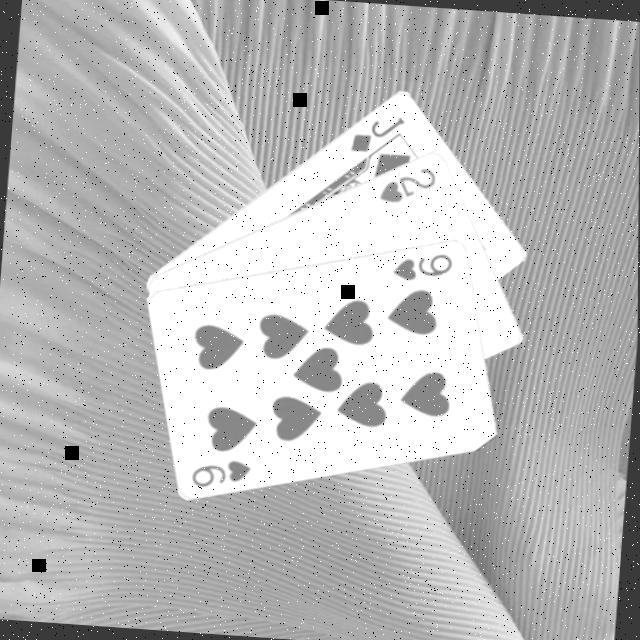2H: (376, 162, 442, 210)
9H: (189, 454, 257, 496), (391, 248, 459, 288)
JD: (347, 110, 409, 160)
